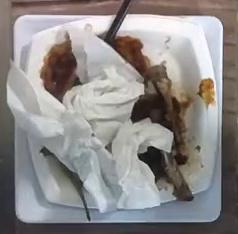beans: (39, 32, 78, 101), (116, 36, 151, 76)
